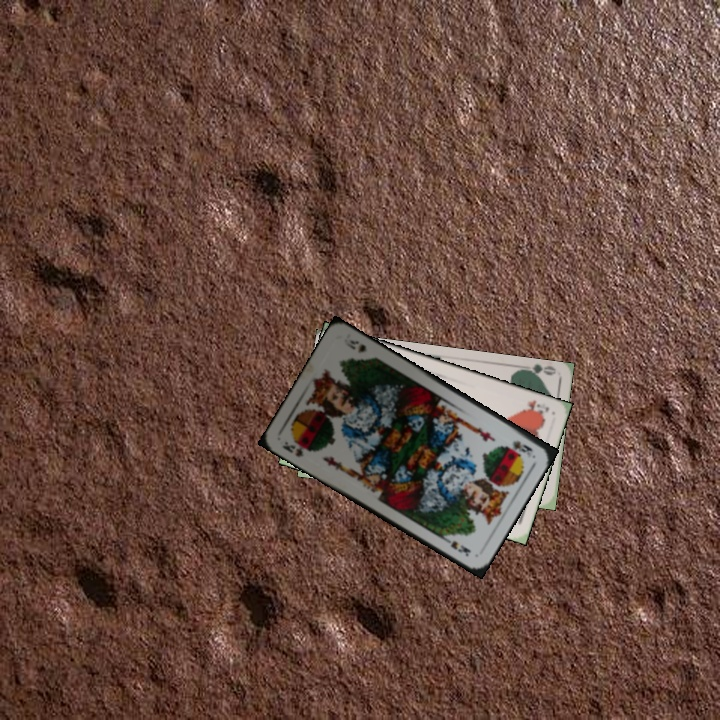GO: (516, 361, 557, 382)
HO: (519, 396, 551, 418)
SK: (278, 437, 313, 460), (508, 436, 535, 460)
